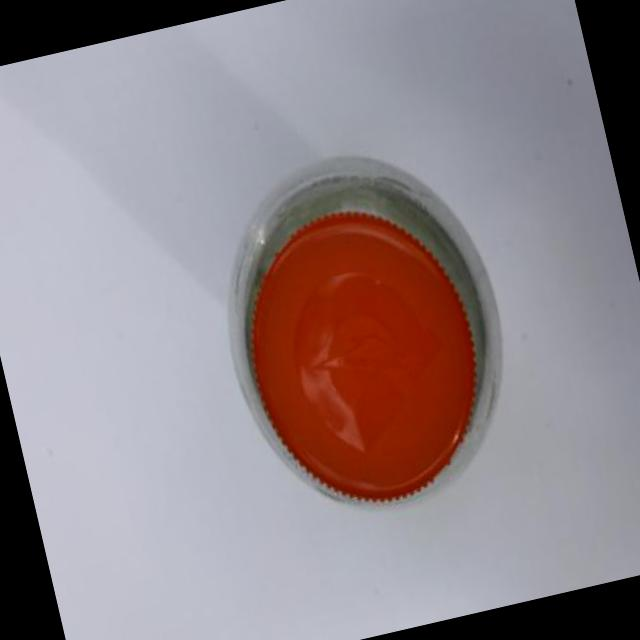Trash: (202, 141, 544, 517)
